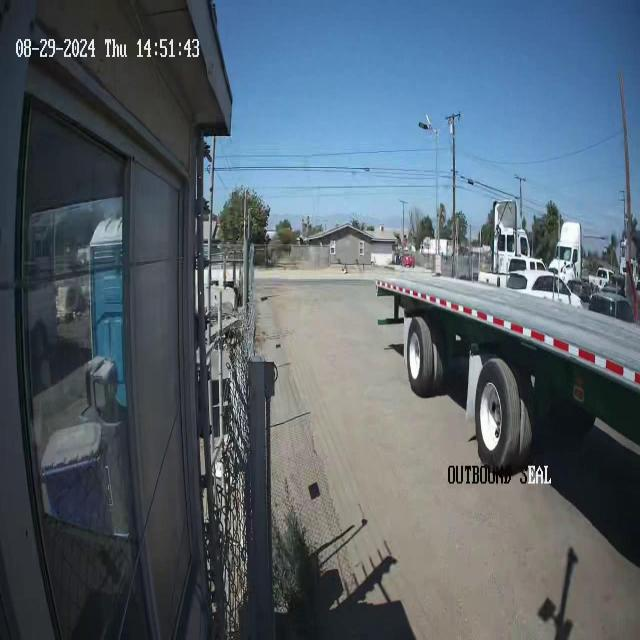TRUCK_IN: (374, 256, 640, 481)
